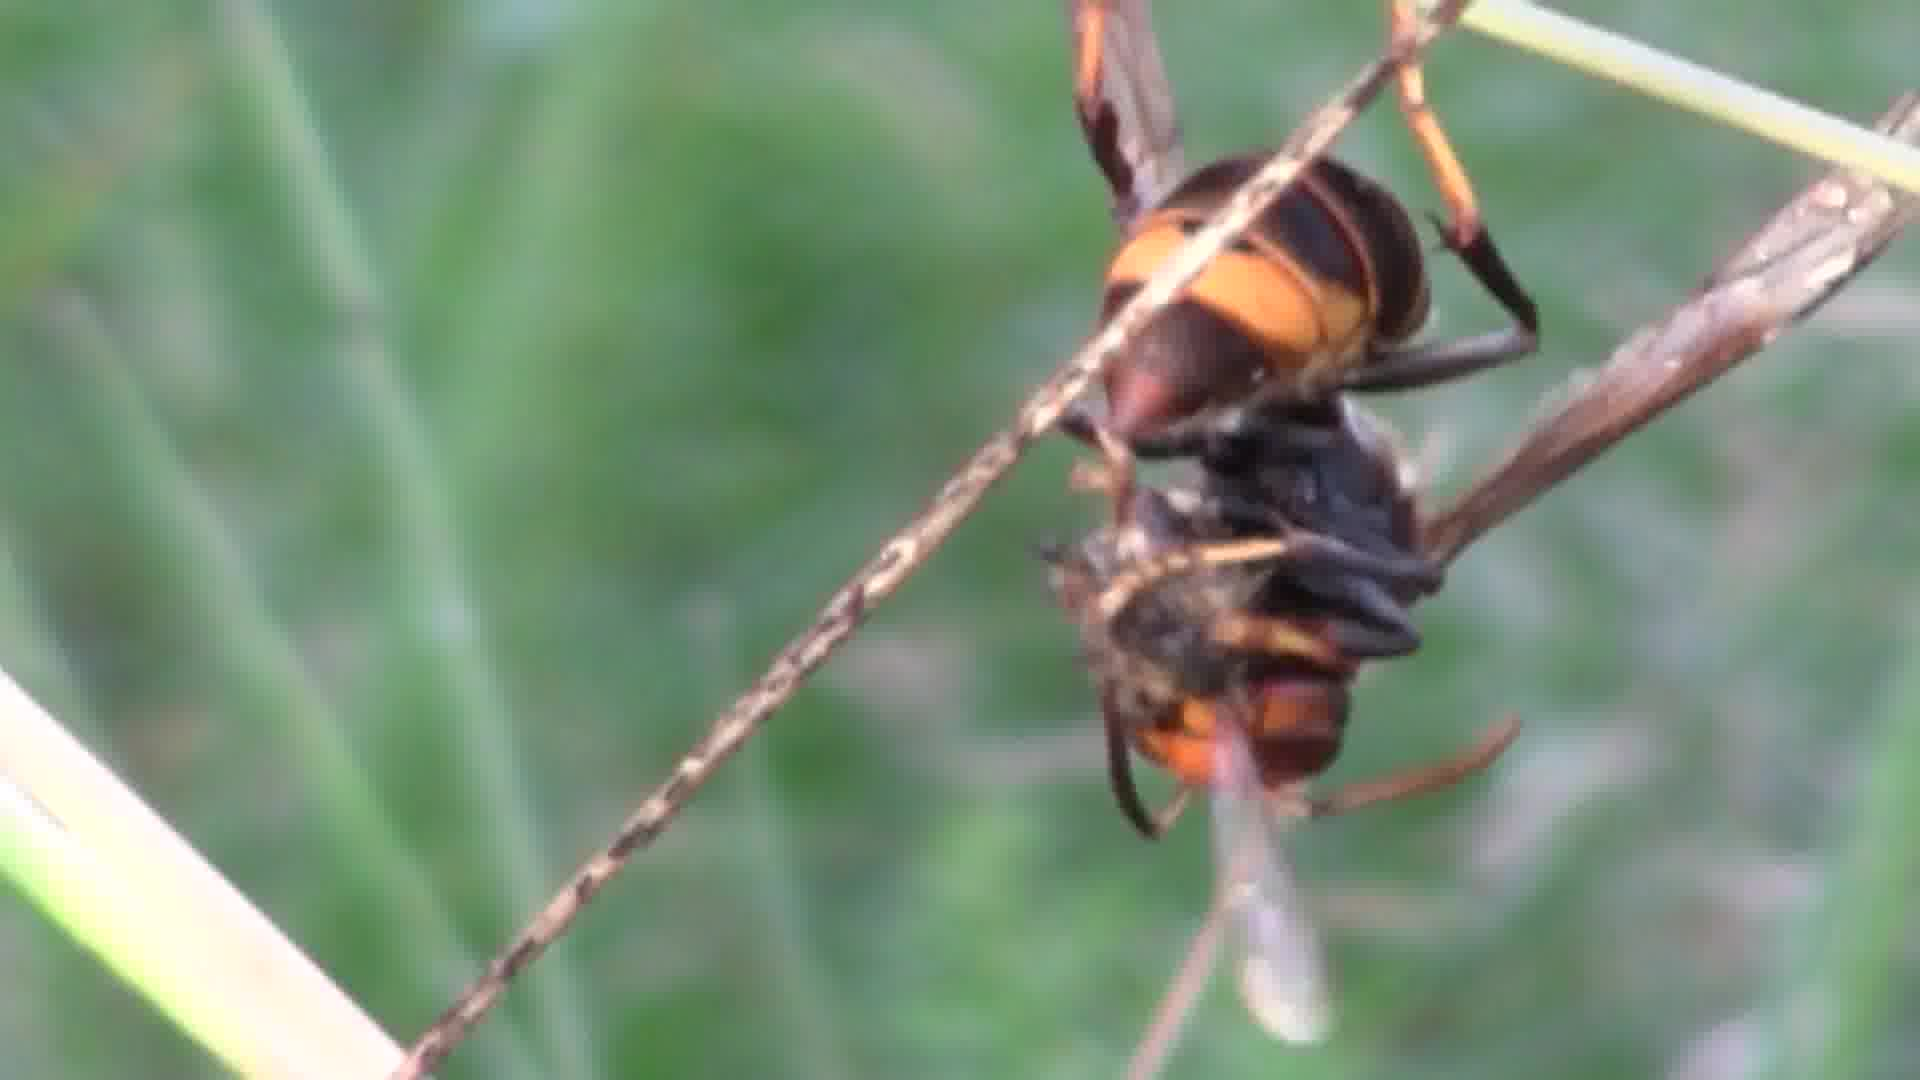hornet: (960, 0, 1640, 986)
